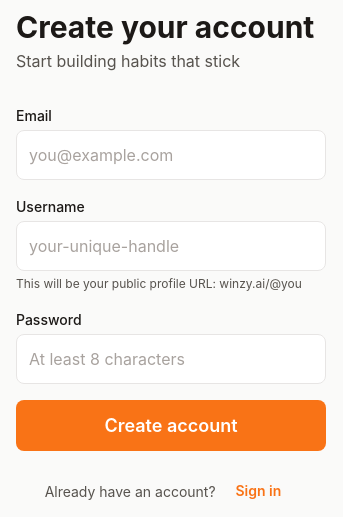
Test case: SignUpScreen › validates username format — too short
Type "user@test.com" into the field with test id "email-input" at [171, 154], box [16,130,326,180]
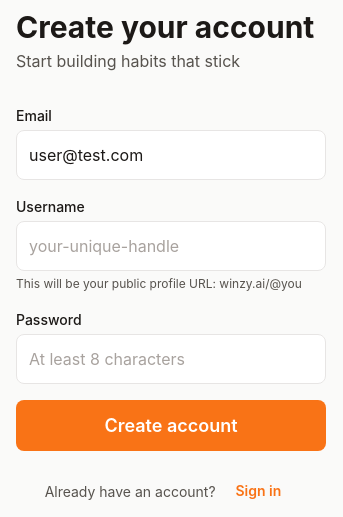
Type "ab" into the field with test id "username-input" at [171, 246], box [16,220,326,270]
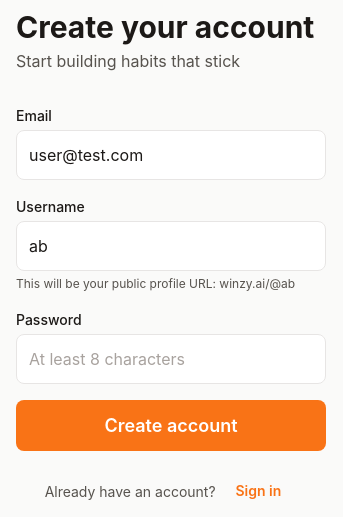
Type "password123" into the password field with test id "password-input" at [171, 358], box [16,334,326,384]
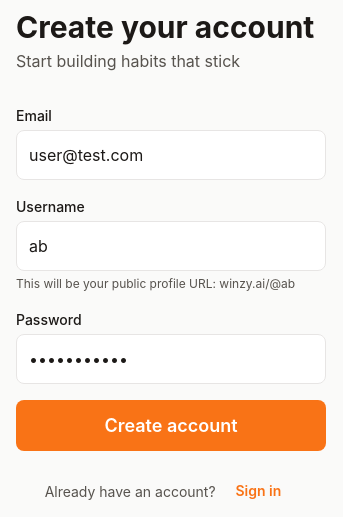
Click the button "Create account" at [171, 425], box [16,400,326,451]
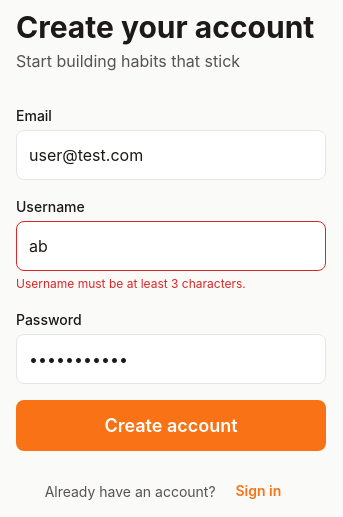
Now the text "Username must be at least 3 characters." is shown, box [16,276,246,290]
